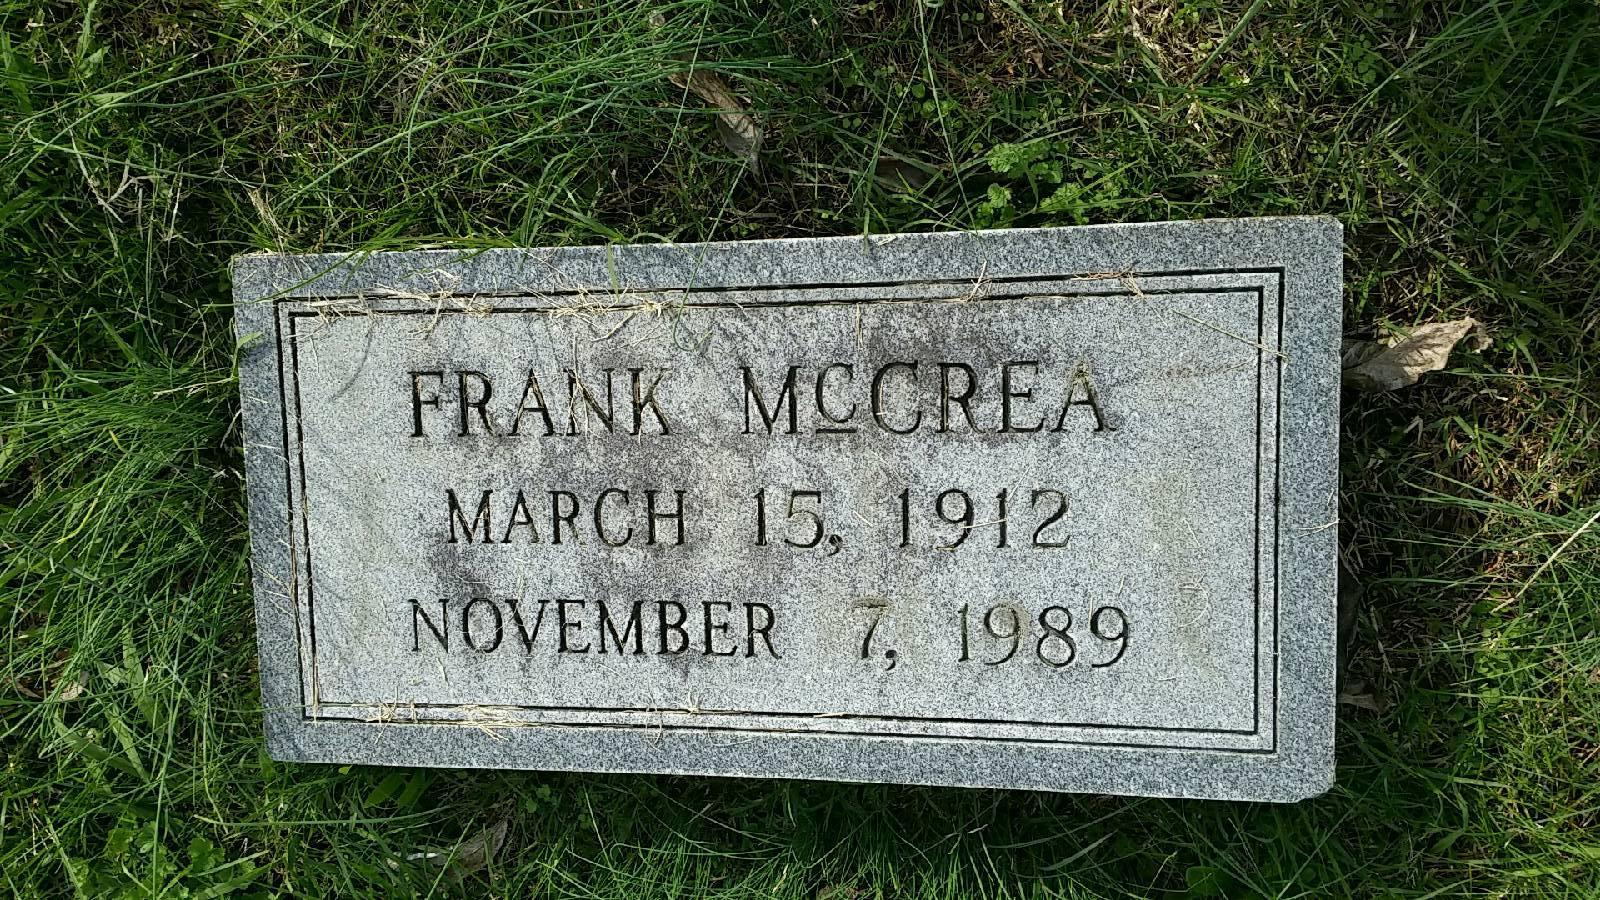flat: (191, 214, 1421, 816)
